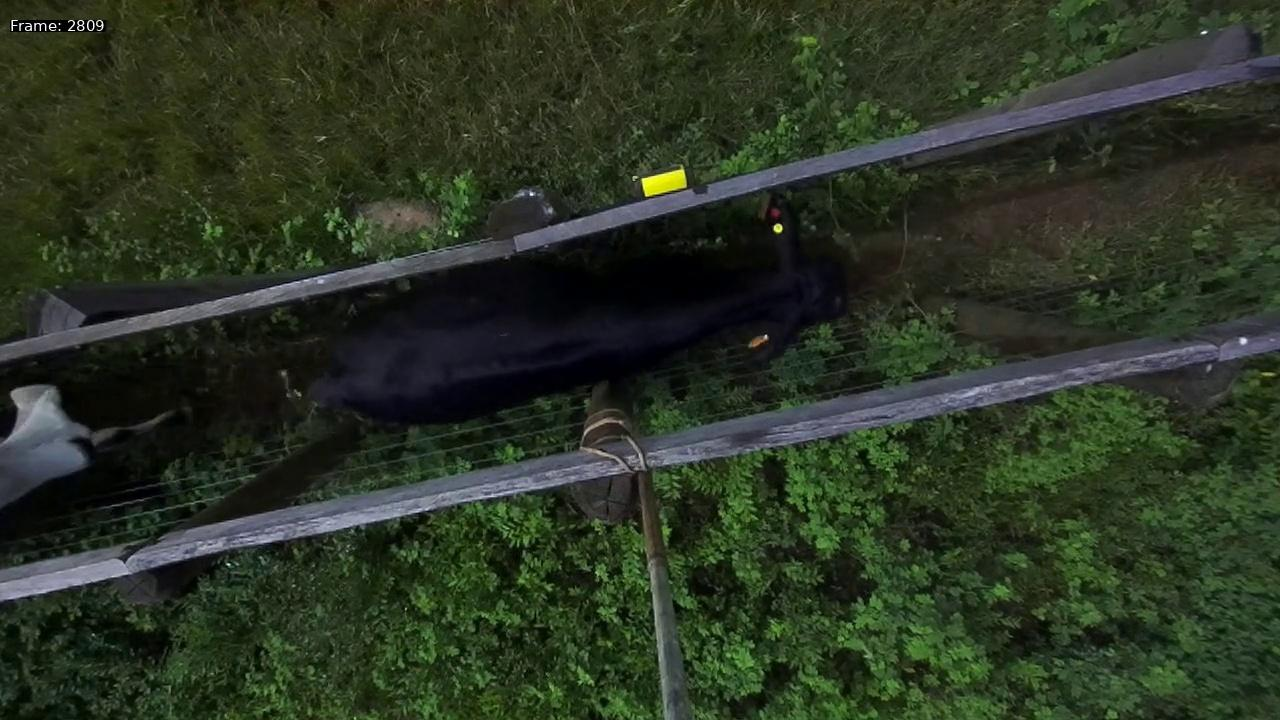cattle: (287, 174, 859, 441)
